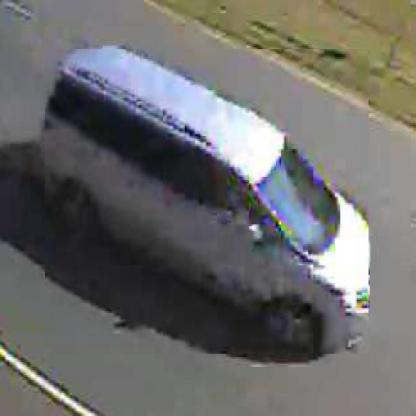car: (46, 50, 371, 357)
